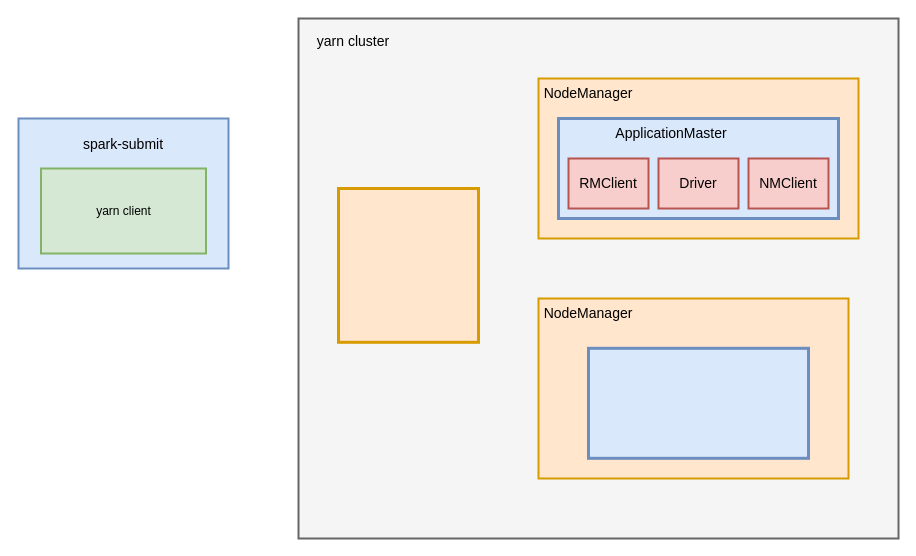
Some shapes in this 916 by 556 pixel diagram are drawn without their labels. Each missing label, with the centre of its shape:
"ExecutorBackend" belongs at (698,402).
"ResourceManager" belongs at (408,264).
